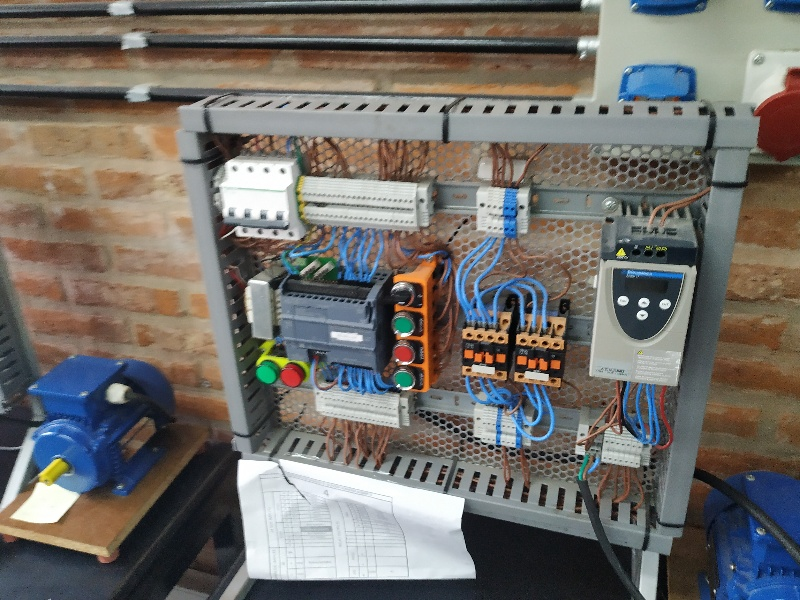Tablero 4: (192, 120, 696, 533)
